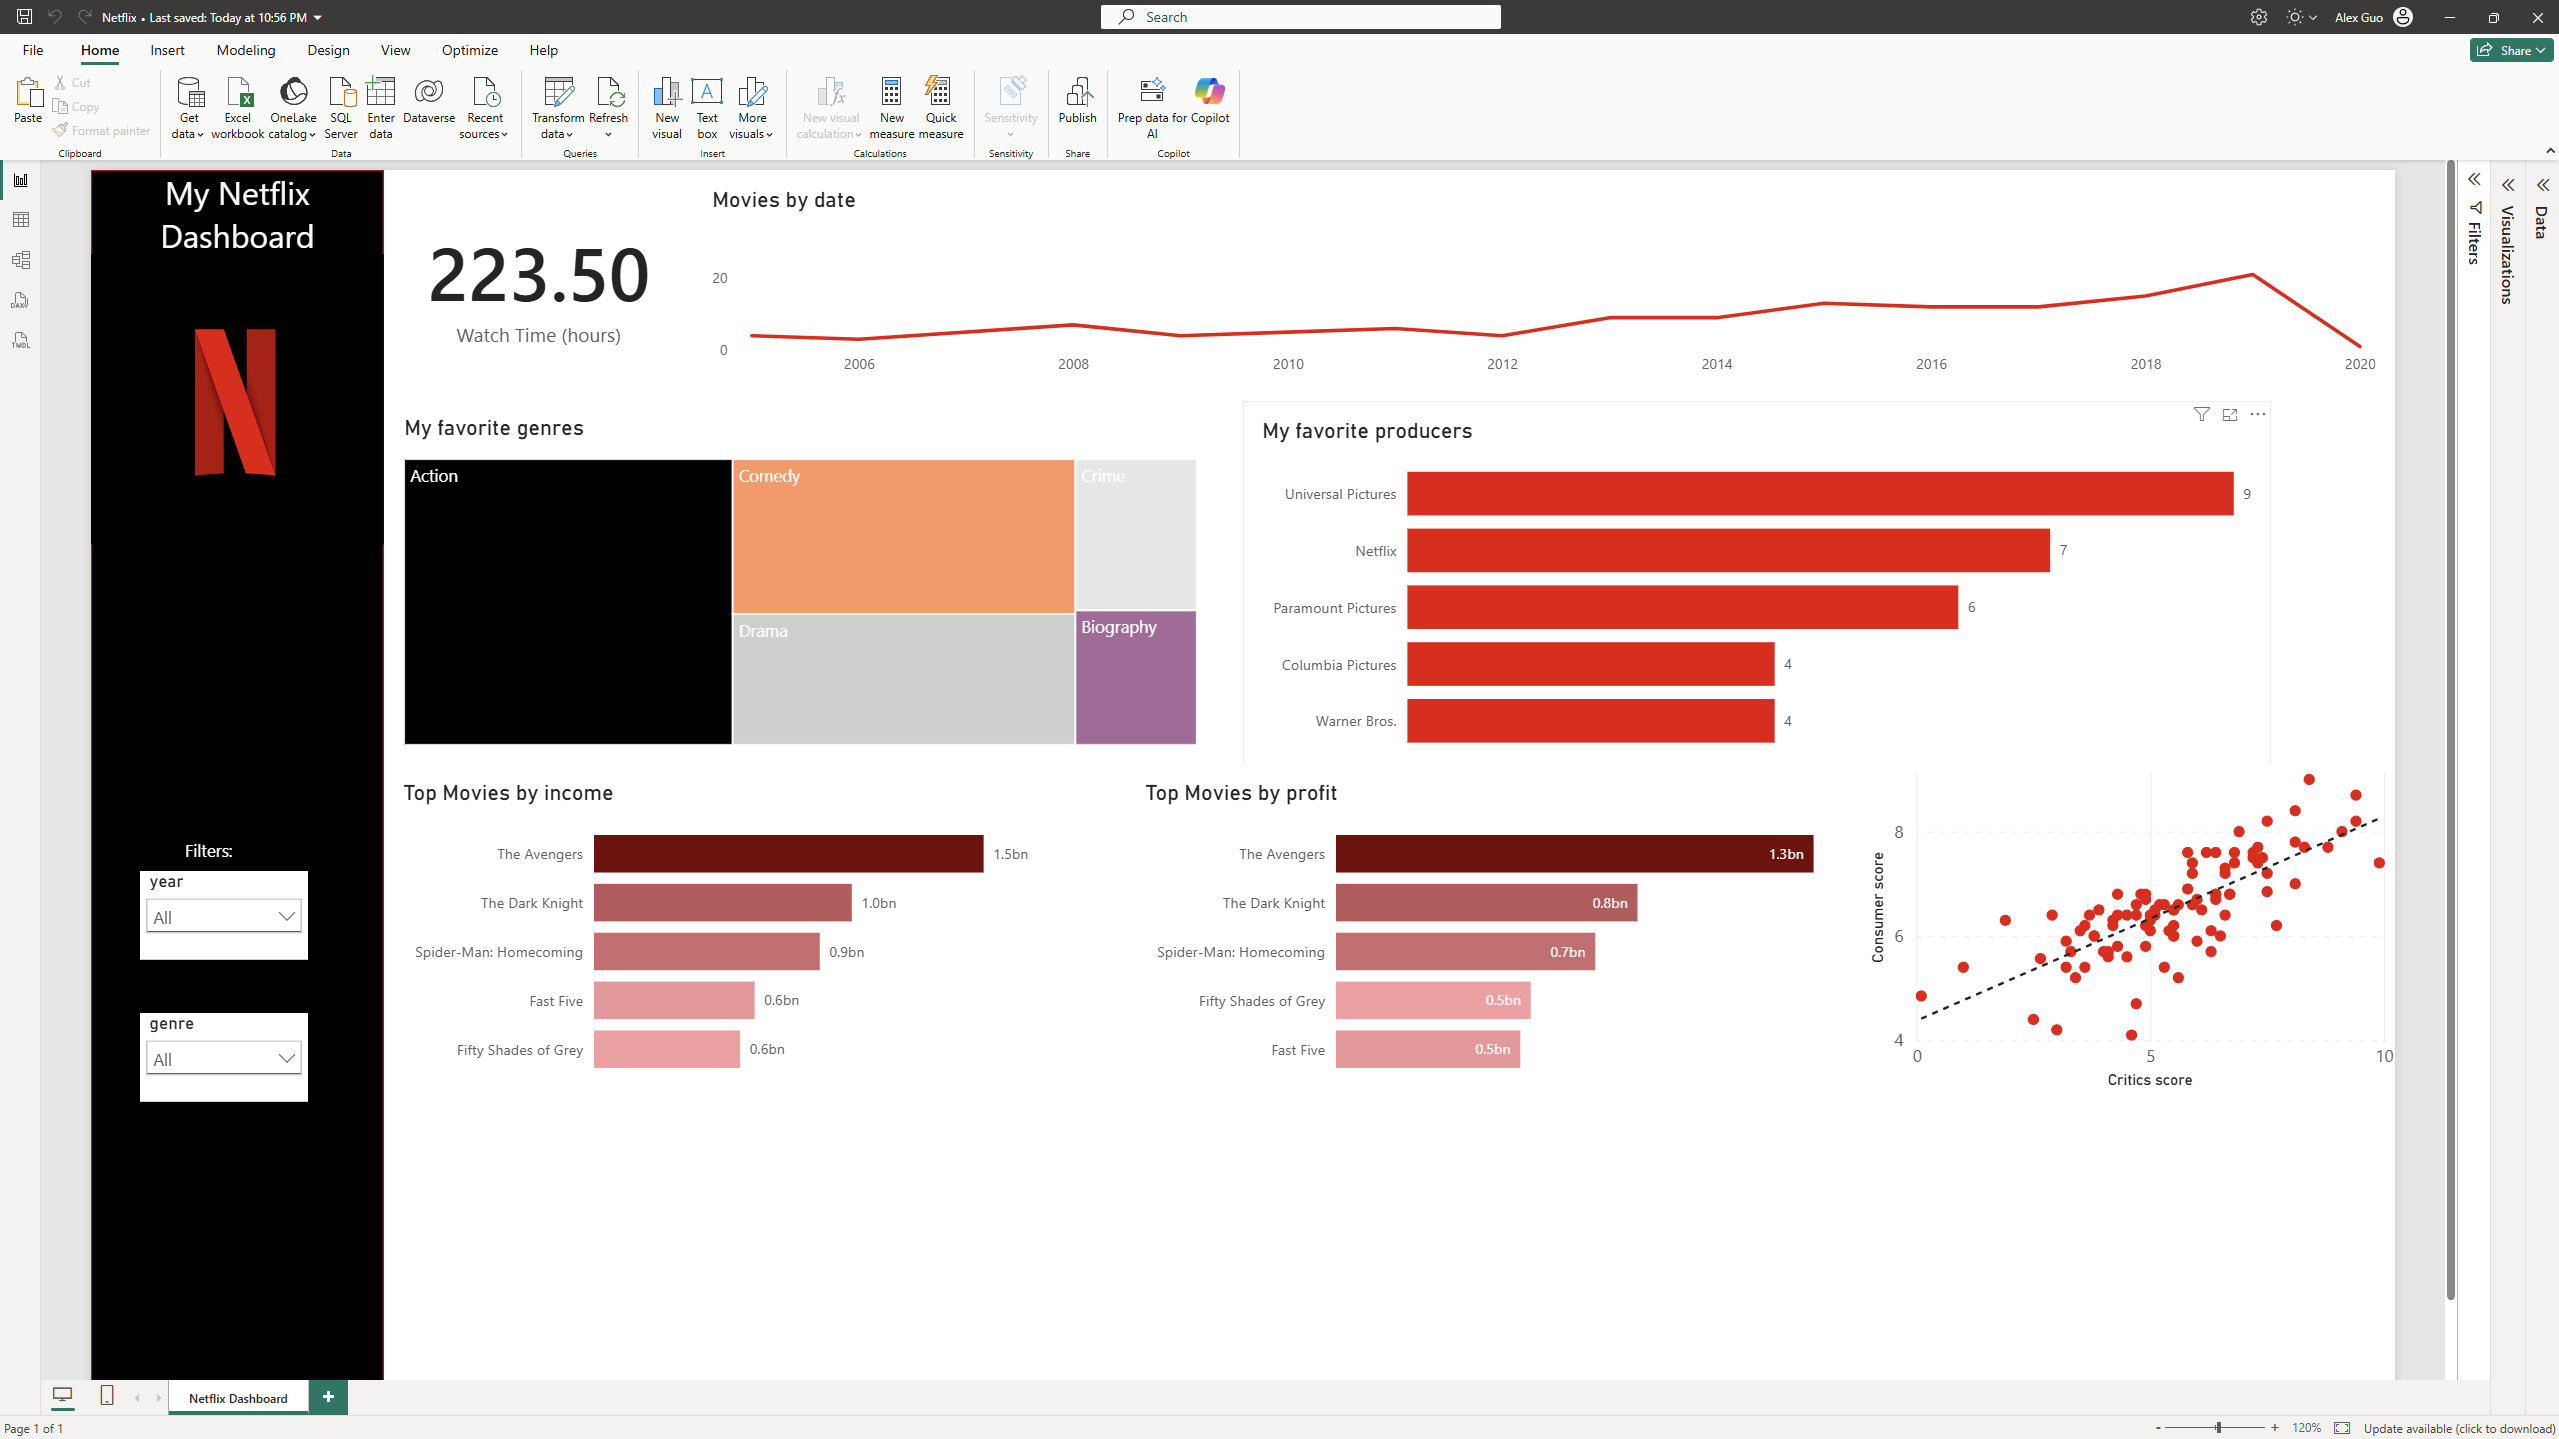

What the dashboard file says about the page in this screenshot:
{"tool":"powerbi","page":{"name":"Netflix Dashboard","canvas":[1920,1080],"ordinal":0},"visuals":[{"type":"shape","title":"Black background","box":[0,0,244,1082],"z":0},{"type":"image","title":"Logo","box":[0,70,244,242],"z":1000},{"type":"textbox","box":[0,0,244,84],"z":2000},{"type":"cardVisual","fields":{"Data":["Movies  and Genre.Watch Time (hours)"]},"box":[244,0,258,192],"z":3000},{"type":"treemap","title":"My favorite genres","fields":{"Group":["Movies  and Genre.genre"],"Values":["CountNonNull(Movies  and Genre.title)"]},"box":[245,190,692.5,305],"z":4000},{"type":"lineChart","title":"Movies by date","fields":{"Category":["Movies  and Genre.watchdate.Variation.Date Hierarchy.Year","Movies  and Genre.watchdate.Variation.Date Hierarchy.Quarter","Movies  and Genre.watchdate.Variation.Date Hierarchy.Month","Movies  and Genre.watchdate.Variation.Date Hierarchy.Day"],"Y":["CountNonNull(Movies  and Genre.title)"]},"box":[501.9,0,1418.1,191.1],"z":5000},{"type":"barChart","title":"My favorite producers","fields":{"Category":["Movies  and Genre.production_company"],"Y":["CountNonNull(Movies  and Genre.title)"]},"box":[960,192.5,856.7,302.2],"z":6000},{"type":"barChart","title":"Top Movies by income","fields":{"Category":["Movies  and Genre.title"],"Y":["Sum(Movies  and Genre.worlwide_gross_income)"]},"box":[244.3,494.3,618.6,271.4],"z":7000},{"type":"barChart","title":"Top Movies by profit","fields":{"Category":["Movies  and Genre.title"],"Y":["Movies  and Genre.Profit"]},"box":[862.9,494.3,620,271.4],"z":8000},{"type":"scatterChart","fields":{"Category":["Movies  and Genre.title"],"X":["Avg(Movies  and Genre.metascore)"],"Y":["Avg(Movies  and Genre.avg_vote)"]},"box":[1482.9,494.3,437.1,271.4],"z":9000},{"type":"slicer","fields":{"Values":["Movies  and Genre.year"]},"box":[40.6,584.1,140.4,73.7],"z":10000},{"type":"textbox","box":[78.6,557.1,42.9,27.1],"z":11000},{"type":"slicer","fields":{"Values":["Movies  and Genre.genre"]},"box":[40.6,702.4,140.4,73.7],"z":11001}]}

Visuals, with their boxes on the page's 1920x1080 design canvas (x1, y1, x2, y2). These are canvas units, not pixel positions in the 2559x1439 screenshot, which may show the page scaled, cropped or inside an application window:
"Black background" shape: x1=0, y1=0, x2=244, y2=1082
"Logo" image: x1=0, y1=70, x2=244, y2=312
textbox: x1=0, y1=0, x2=244, y2=84
cardVisual - Movies  and Genre.Watch Time (hours): x1=244, y1=0, x2=502, y2=192
"My favorite genres" treemap: x1=245, y1=190, x2=938, y2=495
"Movies by date" lineChart: x1=502, y1=0, x2=1920, y2=191
"My favorite producers" barChart: x1=960, y1=192, x2=1817, y2=495
"Top Movies by income" barChart: x1=244, y1=494, x2=863, y2=766
"Top Movies by profit" barChart: x1=863, y1=494, x2=1483, y2=766
scatterChart - Movies  and Genre.title x Avg(Movies  and Genre.metascore): x1=1483, y1=494, x2=1920, y2=766
slicer - Movies  and Genre.year: x1=41, y1=584, x2=181, y2=658
textbox: x1=79, y1=557, x2=122, y2=584
slicer - Movies  and Genre.genre: x1=41, y1=702, x2=181, y2=776
